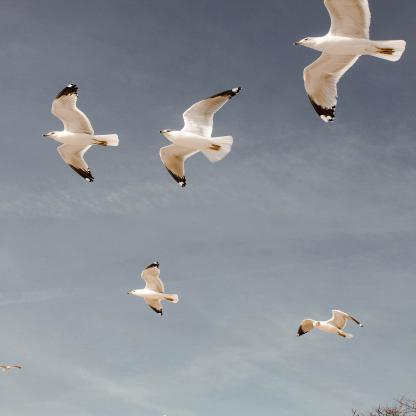bird: (294, 0, 406, 122), (159, 87, 242, 187), (42, 83, 119, 182), (127, 262, 179, 316), (298, 310, 364, 338), (0, 365, 23, 371)
